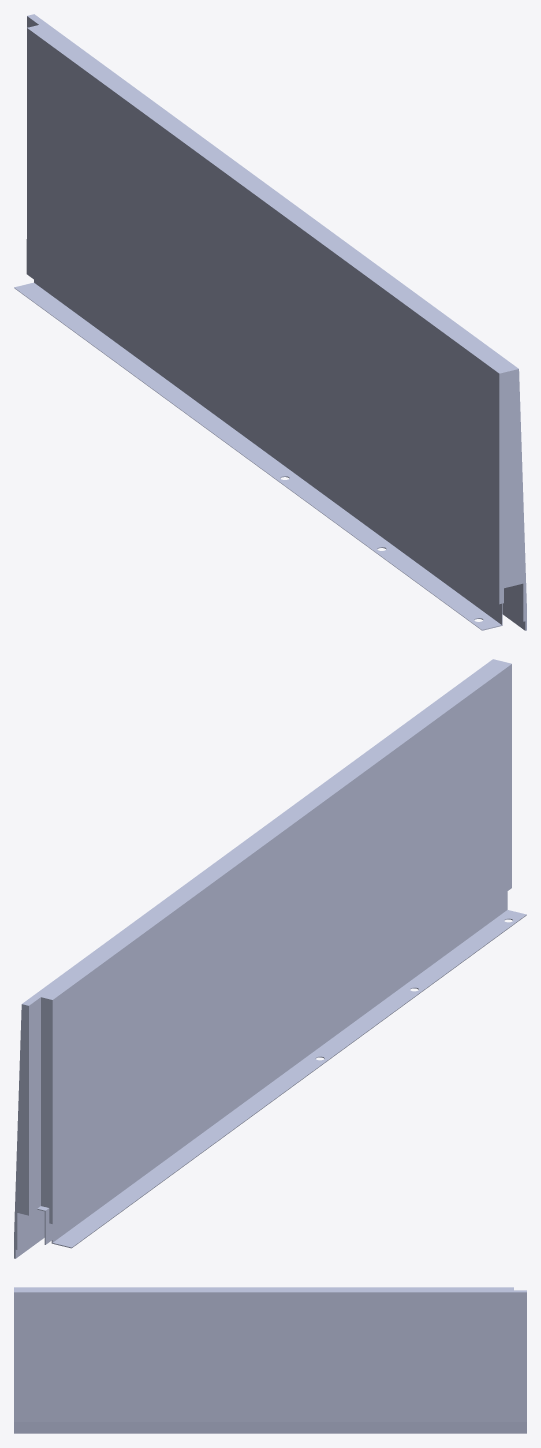
Rendered from mv-kava-E650-m.glb.
3 renders of one model, top to bottom at view 1: azimuth 30°, elevation 25°; view 2: azimuth 150°, elevation 25°; view 3: azimuth 270°, elevation 25°, orthographic. The views are drawn at different scales.
Parts seen in each view (by area): view 1: 45519545; view 2: 45519545; view 3: 45519545.
Part boxes in pixels (box(x1,y1,x2,y2)): 45519545: box(14, 14, 526, 630); 45519545: box(14, 659, 526, 1258); 45519545: box(14, 1287, 526, 1433).
Size of the model in its own units: 0.0335 by 0.192 by 0.6402.
